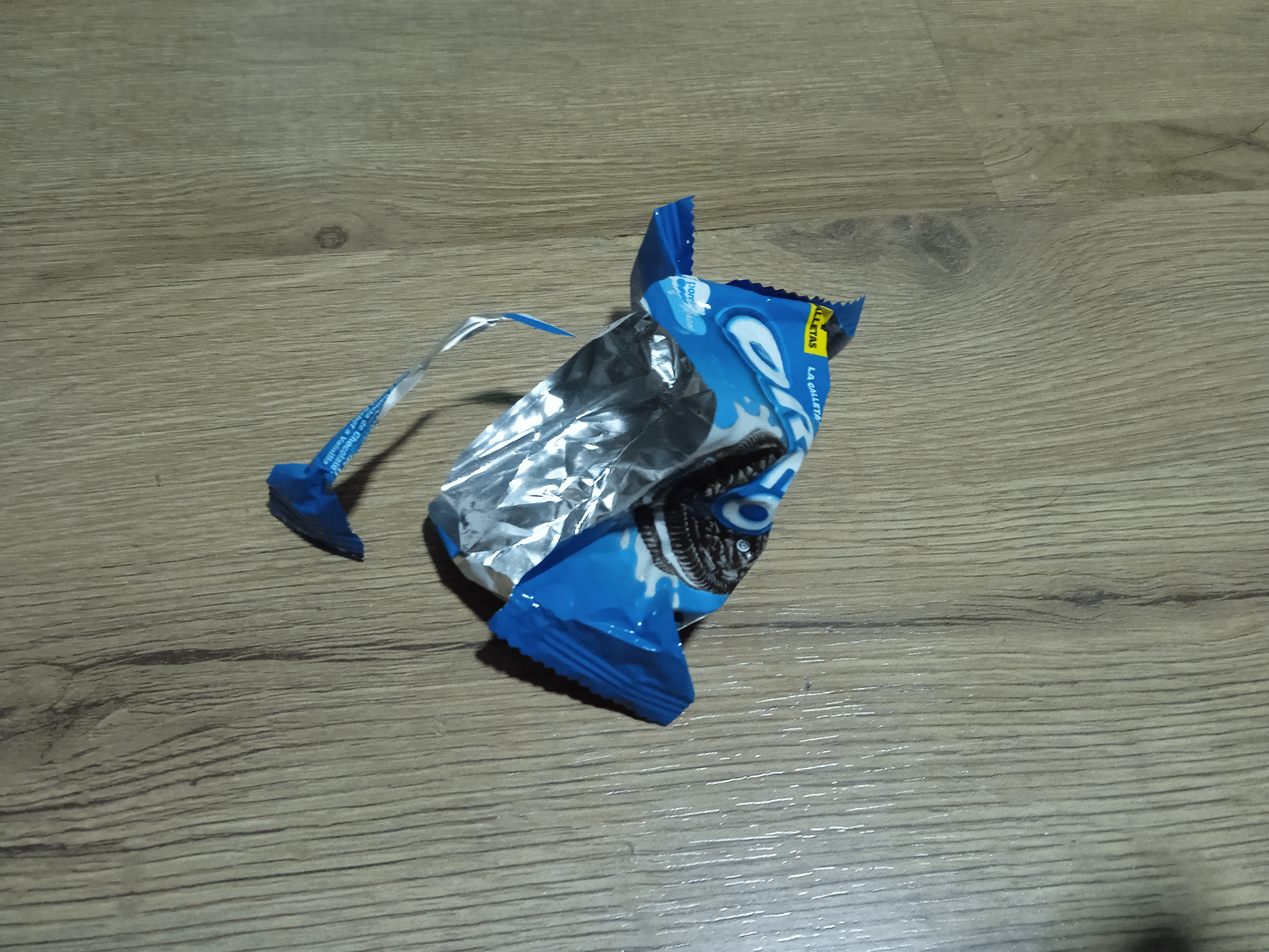plastic: (245, 184, 922, 736)
